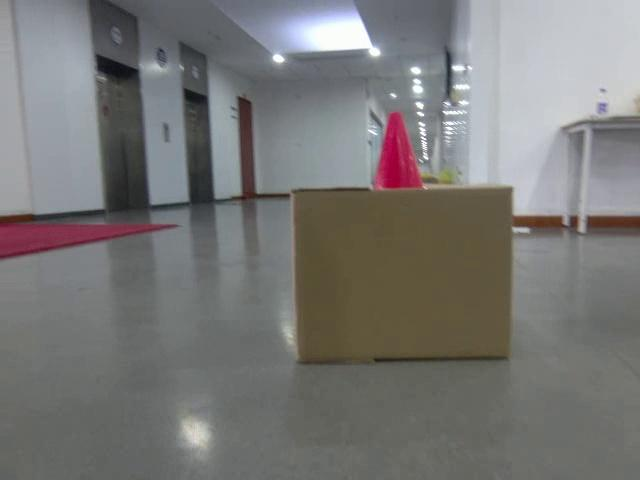red_barrel: (369, 110, 425, 191)
